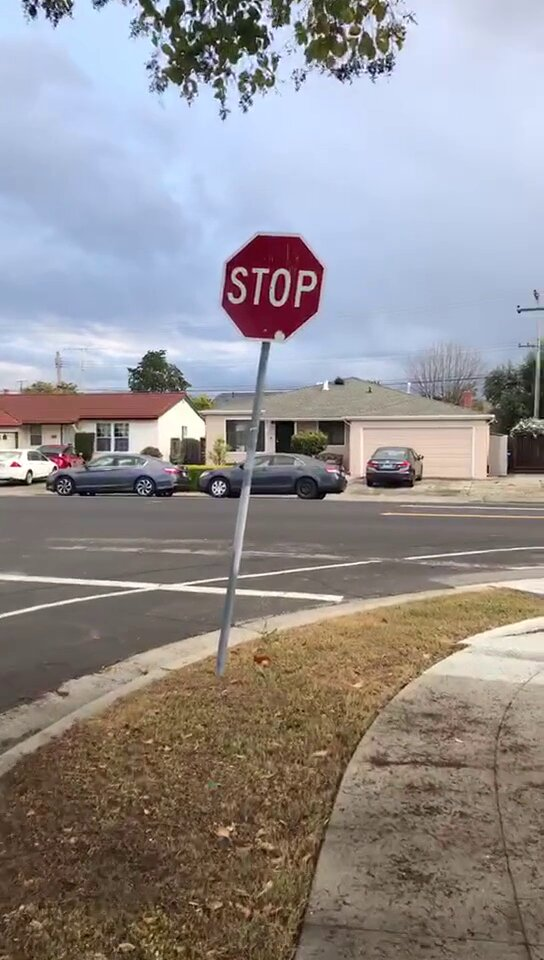stop_sign: (222, 236, 323, 342)
